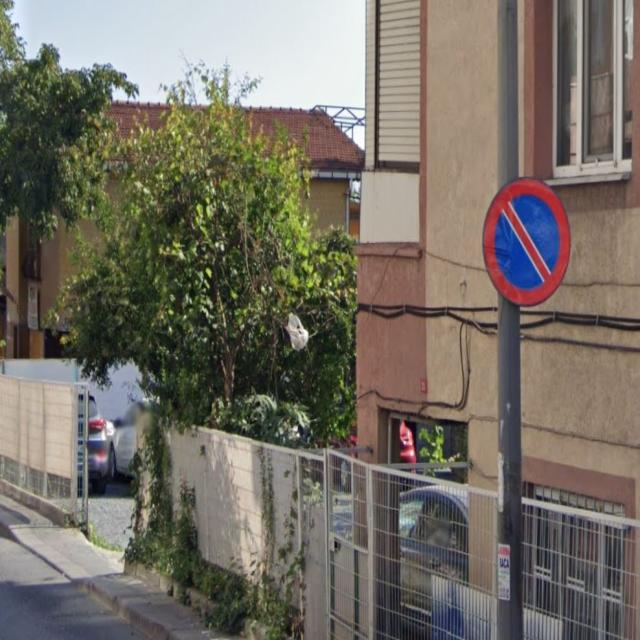parkyasak: (482, 178, 571, 306)
